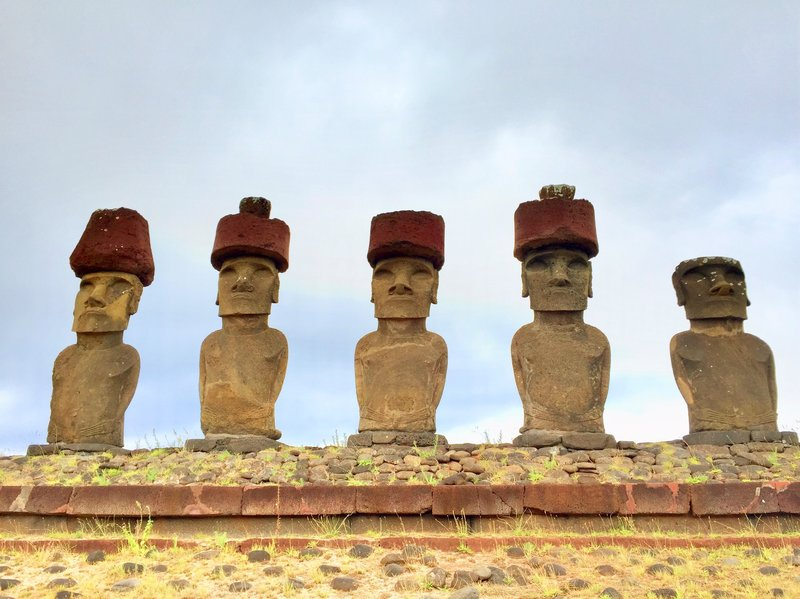person-like: (44, 202, 163, 456), (504, 176, 617, 439), (342, 203, 455, 443), (193, 190, 298, 444), (663, 250, 785, 441)
